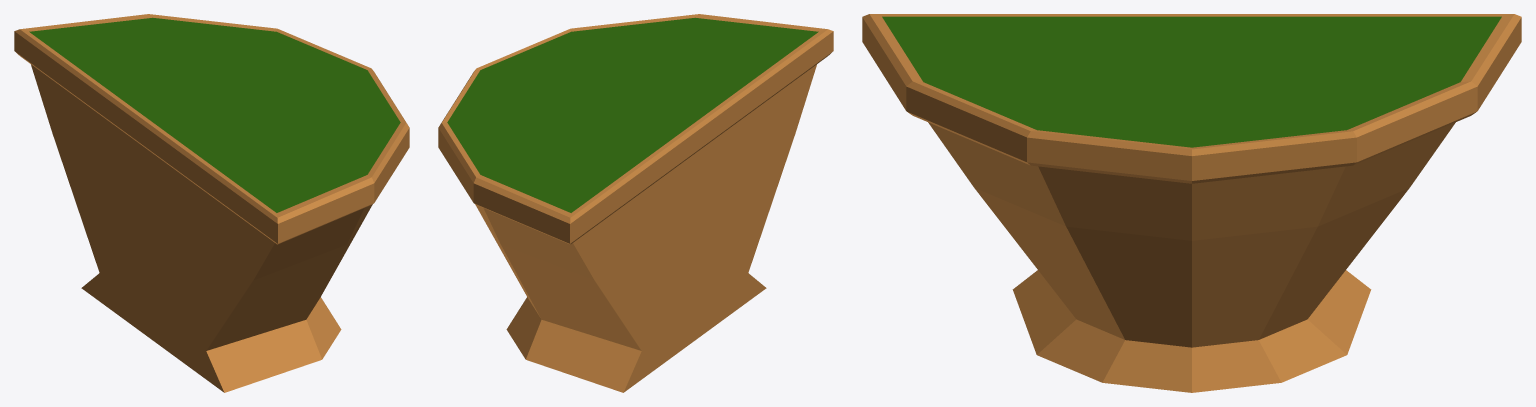
Rendered from Game_table_2.fbx.
The picture shows the model from 3 angles, left to right: view 1: azimuth 30°, elevation 25°; view 2: azimuth 150°, elevation 25°; view 3: azimuth 270°, elevation 25°; orthographic projection. The views are drawn at different scales.
Parts seen in each view (by area): view 1: Game_table_2; view 2: Game_table_2; view 3: Game_table_2.
Boxes of the visible parts, x1=… form: Game_table_2: x1=14, y1=14, x2=409, y2=392; Game_table_2: x1=438, y1=14, x2=833, y2=392; Game_table_2: x1=862, y1=14, x2=1521, y2=392.
Size of the model in its own units: 106 by 97.38 by 213.
